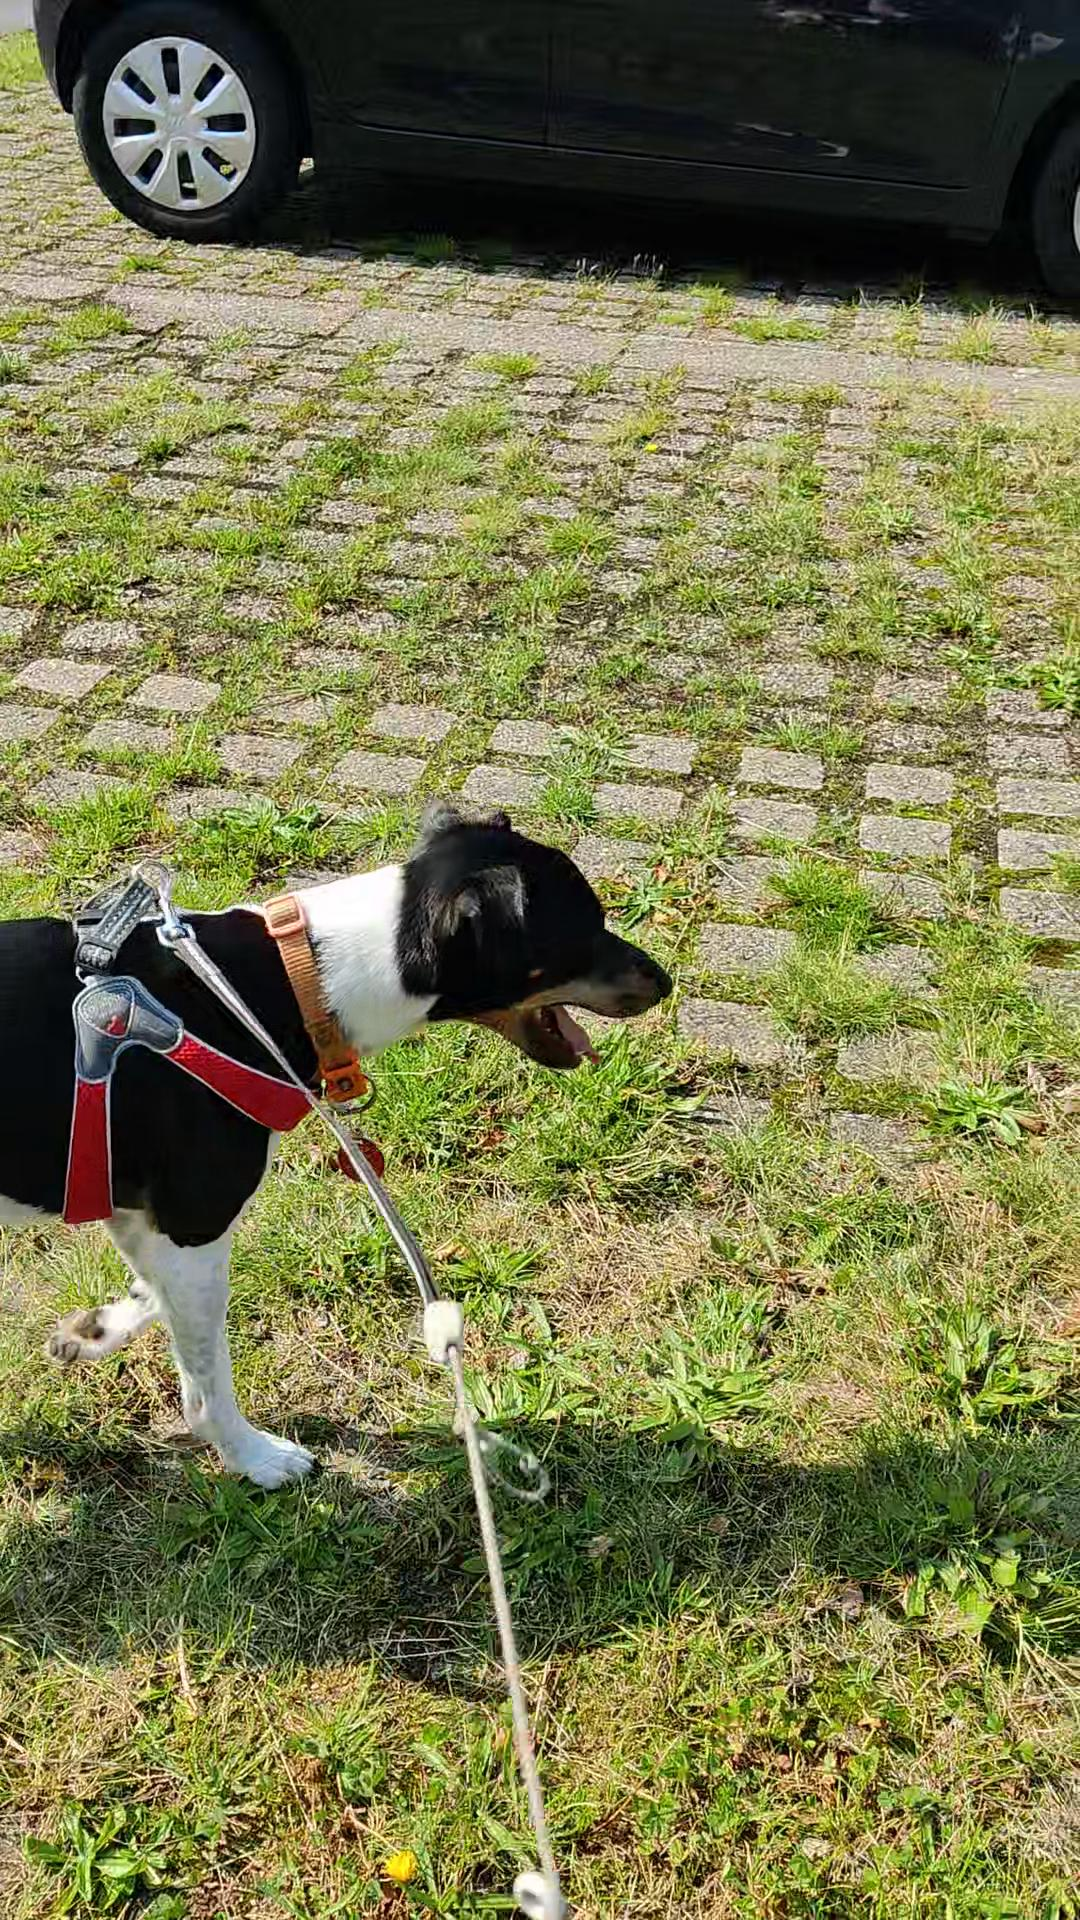Dog: (0, 791, 688, 1523)
